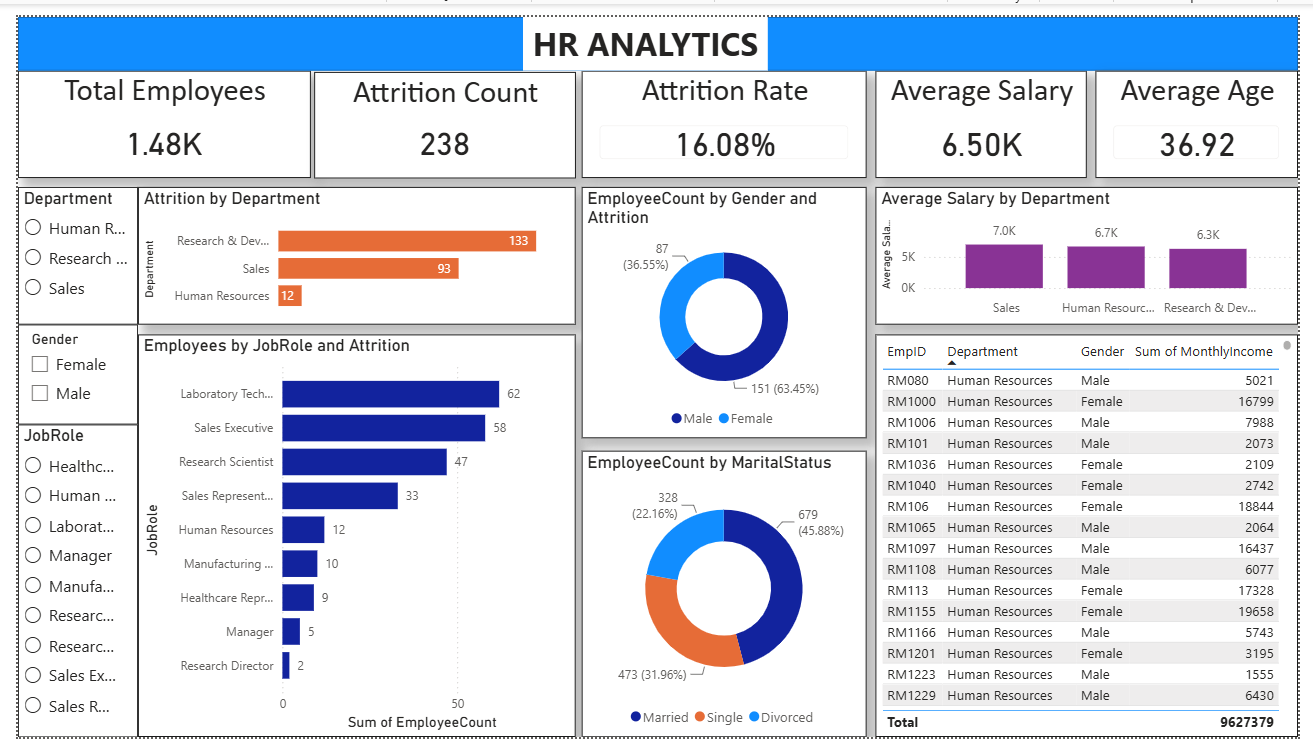

The page's visual inventory and layout, read from the dashboard file:
{"tool":"powerbi","page":{"name":"Page 1","canvas":[1280,720],"ordinal":0},"visuals":[{"type":"cardVisual","title":"Total Employees","fields":{"Data":["HR_Analytics.Total Employees"]},"box":[0,53.8,292.5,107.5],"z":0},{"type":"cardVisual","title":"Attrition Count","fields":{"Data":["HR_Analytics.Attrition Count"]},"box":[296.2,55,261.2,106.2],"z":1000},{"type":"cardVisual","title":"Attrition Rate","fields":{"Data":["HR_Analytics.Attrition Rate"]},"box":[563.8,53.8,285,107.5],"z":2000},{"type":"cardVisual","title":"Average Salary","fields":{"Data":["HR_Analytics.Average Salary"]},"box":[857.5,53.8,211.2,107.5],"z":3000},{"type":"shape","box":[0,0,1280,53.8],"z":4000},{"type":"textbox","box":[505,0,245,53.8],"z":5000},{"type":"cardVisual","title":"Average Age","fields":{"Data":["HR_Analytics.Average Age"]},"box":[1077.5,53.8,202.5,107.5],"z":6000},{"type":"clusteredBarChart","title":"Attrition by Department","fields":{"Y":["Sum(HR_Analytics.EmployeeCount)"],"Category":["HR_Analytics.Department"]},"box":[120,170,437.5,137.5],"z":7000},{"type":"barChart","title":"Employees by JobRole and Attrition","fields":{"Y":["Sum(HR_Analytics.EmployeeCount)"],"Category":["HR_Analytics.JobRole"],"Series":["HR_Analytics.Attrition"]},"box":[120,317.5,437.5,402.5],"z":8000},{"type":"donutChart","title":"EmployeeCount by Gender and Attrition","fields":{"Category":["HR_Analytics.Gender"],"Y":["Sum(HR_Analytics.EmployeeCount)"],"Series":["HR_Analytics.Attrition"]},"box":[563.8,170,285,251.2],"z":9000},{"type":"clusteredColumnChart","fields":{"Category":["HR_Analytics.Department"],"Y":["HR_Analytics.Average Salary"]},"box":[857.5,170,422.5,137.5],"z":10000},{"type":"donutChart","title":"EmployeeCount by MaritalStatus","fields":{"Category":["HR_Analytics.MaritalStatus"],"Y":["Sum(HR_Analytics.EmployeeCount)"]},"box":[563.8,433.8,285,286.2],"z":11000},{"type":"tableEx","fields":{"Values":["HR_Analytics.EmpID","HR_Analytics.Department","HR_Analytics.Gender","Sum(HR_Analytics.MonthlyIncome)"]},"box":[857.5,317.5,422.5,402.5],"z":12000},{"type":"listSlicer","fields":{"Values":["HR_Analytics.Department"]},"box":[0,170,120,137.5],"z":13000},{"type":"slicer","fields":{"Values":["HR_Analytics.Gender"]},"box":[0,307.5,120,100],"z":14000},{"type":"listSlicer","fields":{"Values":["HR_Analytics.JobRole"]},"box":[0,407.5,120,312.5],"z":15000}]}

Visuals, with their boxes in screenshot pixels (x1, y1, x2, y2), scaled from the page's 1280x720 canvas onto the 1313x746 screenshot:
"Total Employees" cardVisual: detection(0, 56, 300, 167)
"Attrition Count" cardVisual: detection(304, 57, 572, 167)
"Attrition Rate" cardVisual: detection(578, 56, 871, 167)
"Average Salary" cardVisual: detection(880, 56, 1096, 167)
shape: detection(0, 0, 1312, 56)
textbox: detection(518, 0, 769, 56)
"Average Age" cardVisual: detection(1105, 56, 1312, 167)
"Attrition by Department" clusteredBarChart: detection(123, 176, 572, 319)
"Employees by JobRole and Attrition" barChart: detection(123, 329, 572, 745)
"EmployeeCount by Gender and Attrition" donutChart: detection(578, 176, 871, 436)
clusteredColumnChart - HR_Analytics.Department x HR_Analytics.Average Salary: detection(880, 176, 1312, 319)
"EmployeeCount by MaritalStatus" donutChart: detection(578, 449, 871, 745)
tableEx - HR_Analytics.EmpID x HR_Analytics.Department: detection(880, 329, 1312, 745)
listSlicer - HR_Analytics.Department: detection(0, 176, 123, 319)
slicer - HR_Analytics.Gender: detection(0, 319, 123, 422)
listSlicer - HR_Analytics.JobRole: detection(0, 422, 123, 745)
